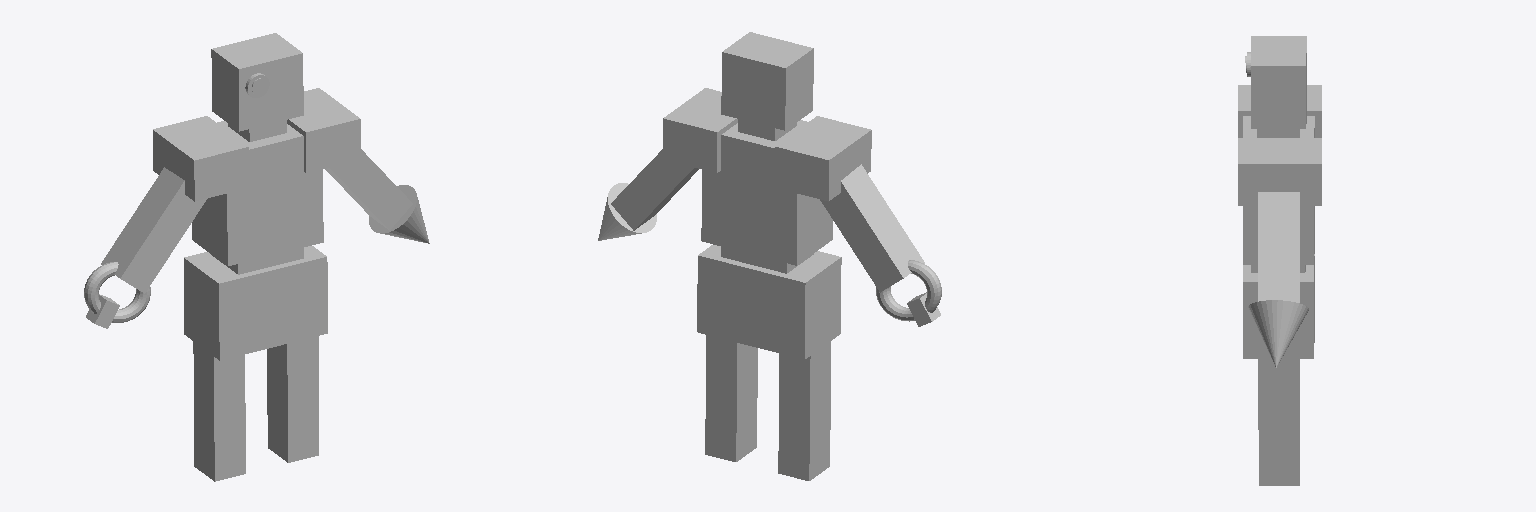
The model's file is robot_stand.obj.
The picture shows the model from 3 angles: view 1: azimuth 30°, elevation 25°; view 2: azimuth 150°, elevation 25°; view 3: azimuth 270°, elevation 25°; orthographic projection.
Parts seen in each view (by area): view 1: kahukubu_Cube.002, dou_Cube.004, atama_Cube.010, migi_asi_Cube, hidari_asi_Cube.001, kata2_Cube.007, ude2_Cube.008, kata1_Cube.006, ude1_Cube.005, トーラス, 円錐, kosijoint_Cube.003 (+2 smaller); view 2: kahukubu_Cube.002, dou_Cube.004, atama_Cube.010, migi_asi_Cube, hidari_asi_Cube.001, kata2_Cube.007, ude2_Cube.008, kata1_Cube.006, ude1_Cube.005, トーラス, 円錐, kosijoint_Cube.003 (+2 smaller); view 3: hidari_asi_Cube.001, atama_Cube.010, kata1_Cube.006, ude1_Cube.005, kahukubu_Cube.002, dou_Cube.004, 円錐, kata2_Cube.007.
Boxes of the visible parts, <box> form: kahukubu_Cube.002: <box>184,246,327,360</box>; dou_Cube.004: <box>192,121,323,265</box>; atama_Cube.010: <box>211,33,303,131</box>; migi_asi_Cube: <box>193,341,245,481</box>; hidari_asi_Cube.001: <box>267,336,318,462</box>; kata2_Cube.007: <box>153,116,248,201</box>; ude2_Cube.008: <box>101,167,207,293</box>; kata1_Cube.006: <box>287,88,360,173</box>; ude1_Cube.005: <box>325,149,412,230</box>; トーラス: <box>84,262,150,322</box>; 円錐: <box>369,185,429,243</box>; kosijoint_Cube.003: <box>211,248,303,274</box>; kahukubu_Cube.002: <box>697,245,841,359</box>; dou_Cube.004: <box>701,120,832,265</box>; atama_Cube.010: <box>721,32,813,130</box>; migi_asi_Cube: <box>778,341,830,480</box>; hidari_asi_Cube.001: <box>705,335,757,461</box>; kata2_Cube.007: <box>774,116,871,201</box>; ude2_Cube.008: <box>820,164,924,292</box>; kata1_Cube.006: <box>663,88,737,172</box>; ude1_Cube.005: <box>611,149,698,230</box>; トーラス: <box>876,260,941,321</box>; 円錐: <box>598,183,656,240</box>; kosijoint_Cube.003: <box>721,247,813,273</box>; hidari_asi_Cube.001: <box>1258,359,1299,485</box>; atama_Cube.010: <box>1251,36,1306,128</box>; kata1_Cube.006: <box>1238,138,1321,205</box>; ude1_Cube.005: <box>1258,192,1299,302</box>; kahukubu_Cube.002: <box>1243,254,1314,358</box>; dou_Cube.004: <box>1243,116,1314,264</box>; 円錐: <box>1248,300,1308,367</box>; kata2_Cube.007: <box>1238,85,1321,137</box>.
Size of the model in its own units: 1.3 by 1.49 by 0.2778.